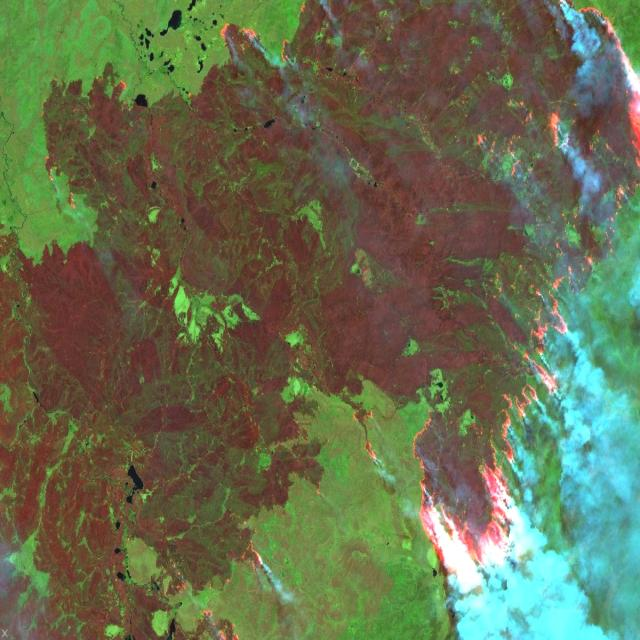fire: (402, 0, 640, 640), (212, 13, 305, 82), (348, 396, 385, 471), (231, 524, 272, 581)
